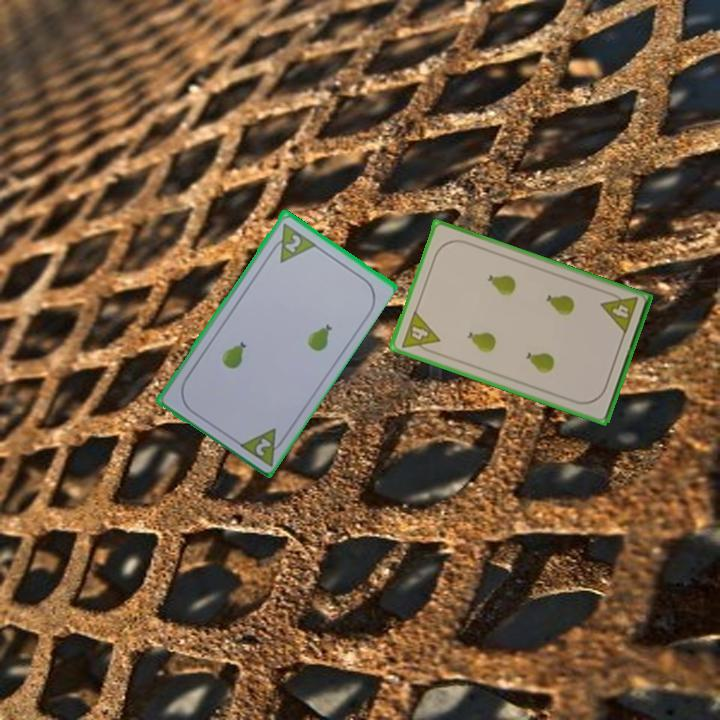2p: (234, 423, 290, 468), (281, 230, 304, 255)
4p: (397, 307, 443, 357), (597, 288, 641, 337)
